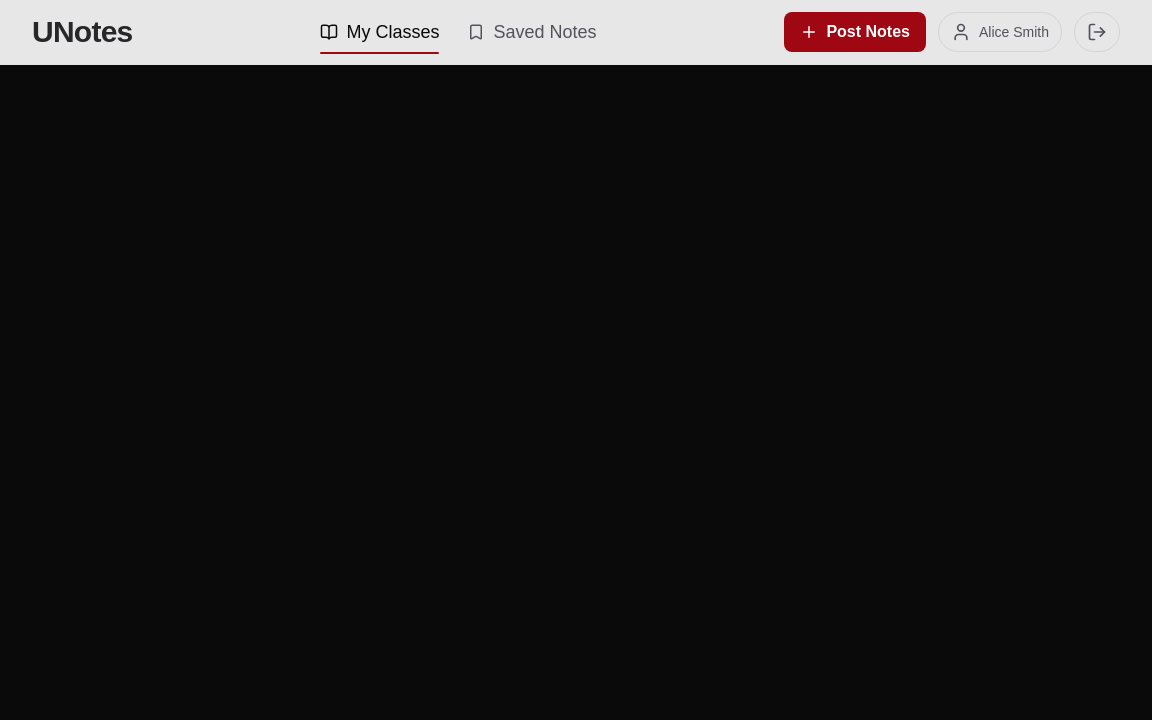
Scenario: Navbar — authenticated regular user › closes Post modal when X button is clicked
Expected: the text "Post Notes" is shown, [826, 20, 910, 44]
Click the button "Post Notes": coordinates (855, 32) [784, 12, 926, 52]
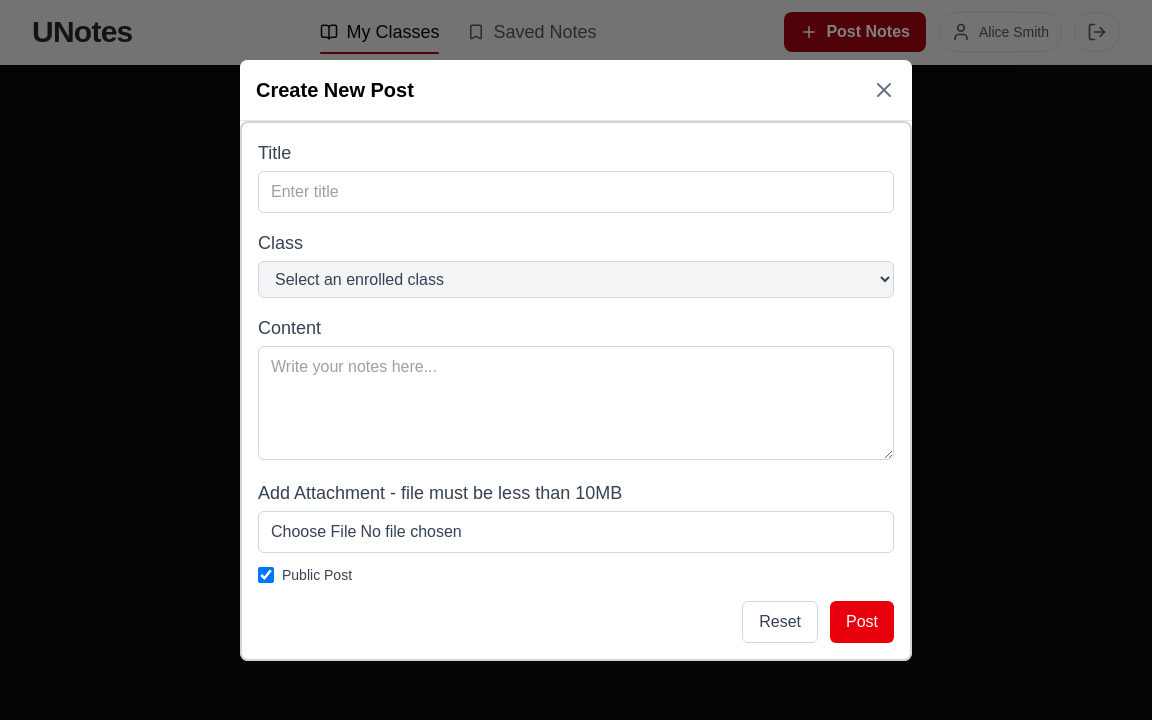
Click the button named "close": coordinates (884, 90) [872, 78, 896, 102]
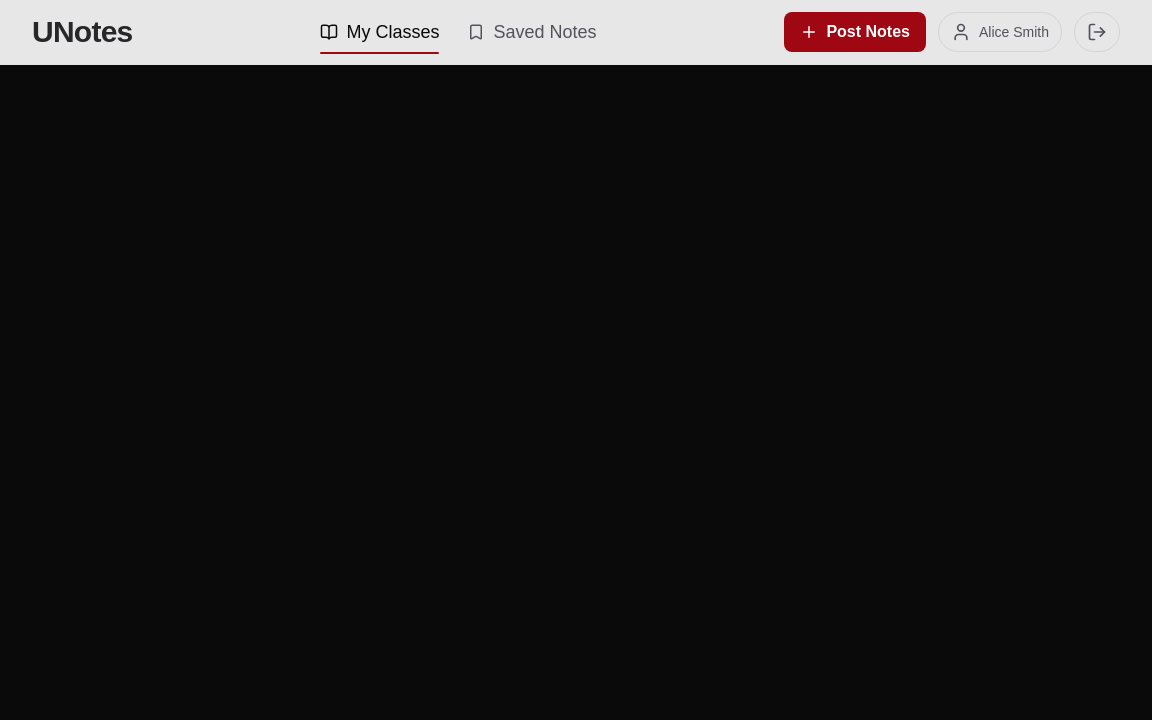
Expected: the heading "Create New Post" is gone
